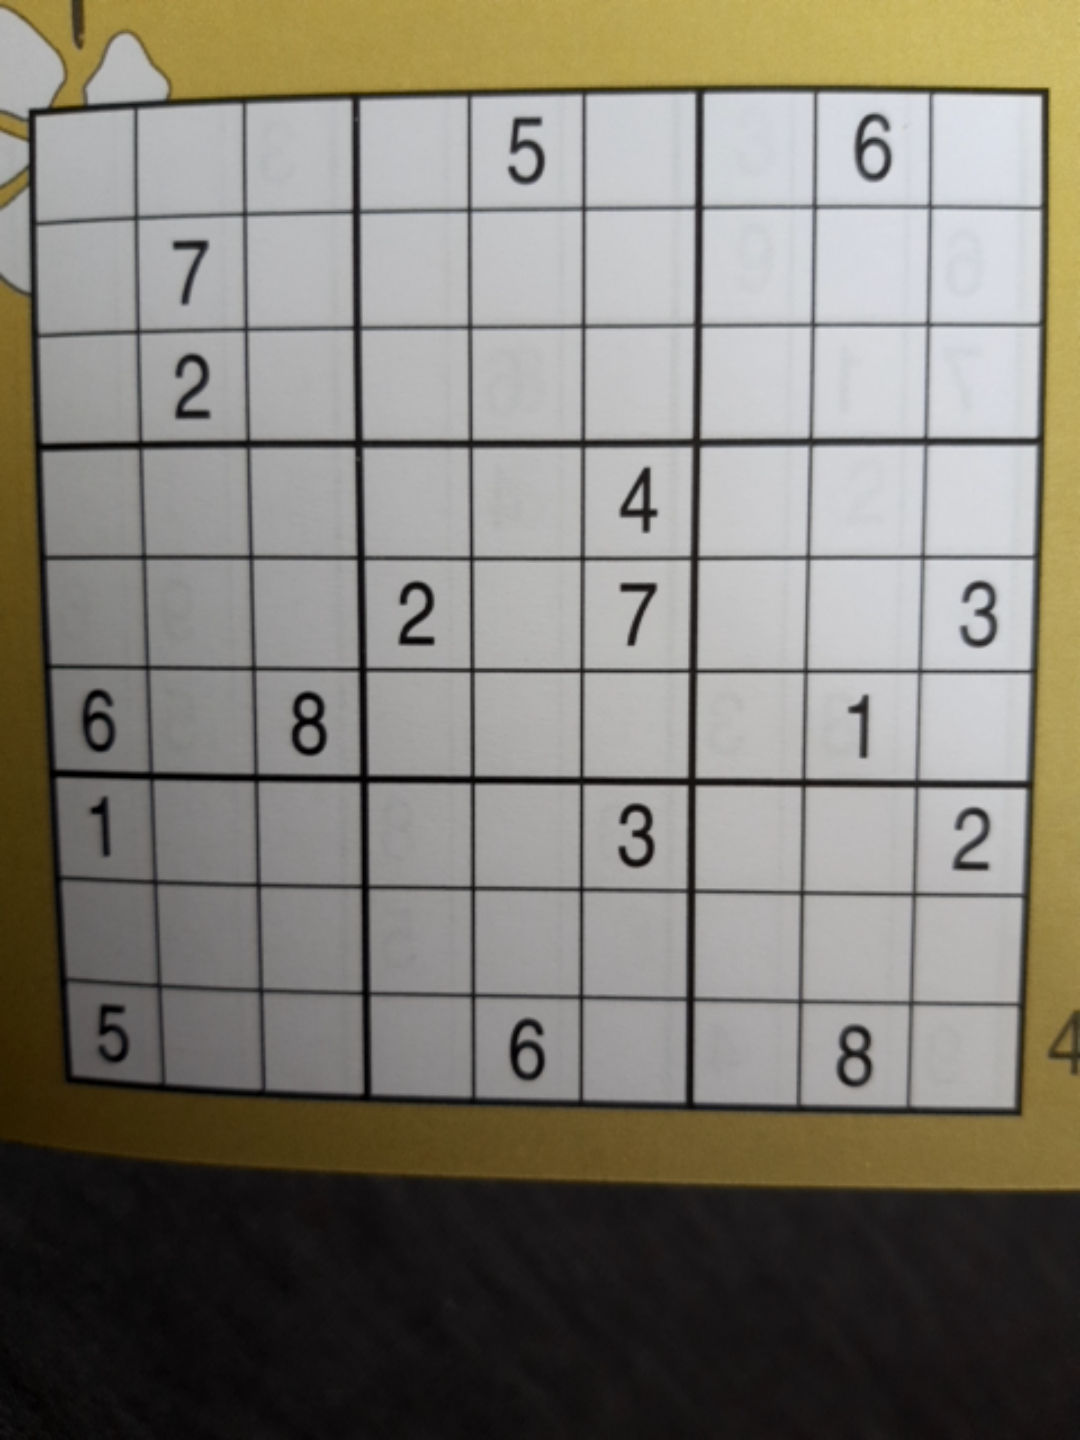sudoku: (30, 89, 1040, 1114)
